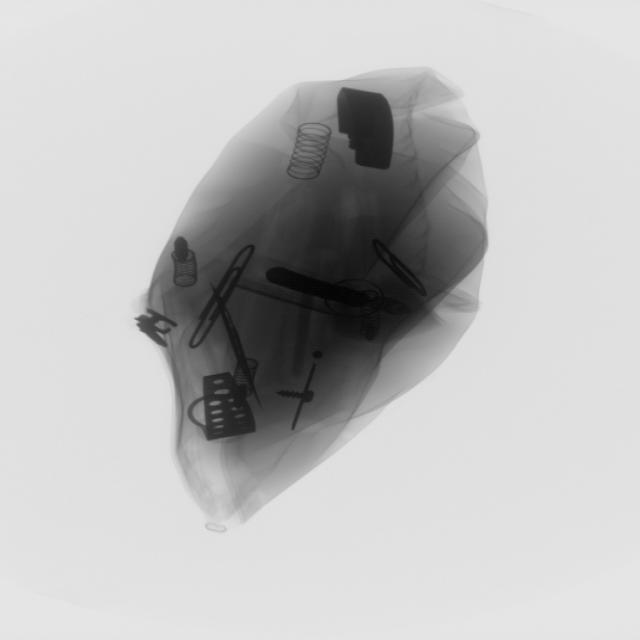BLADE: (203, 285, 263, 394)
GUN: (278, 275, 392, 311)
SCREW: (281, 356, 327, 429)
